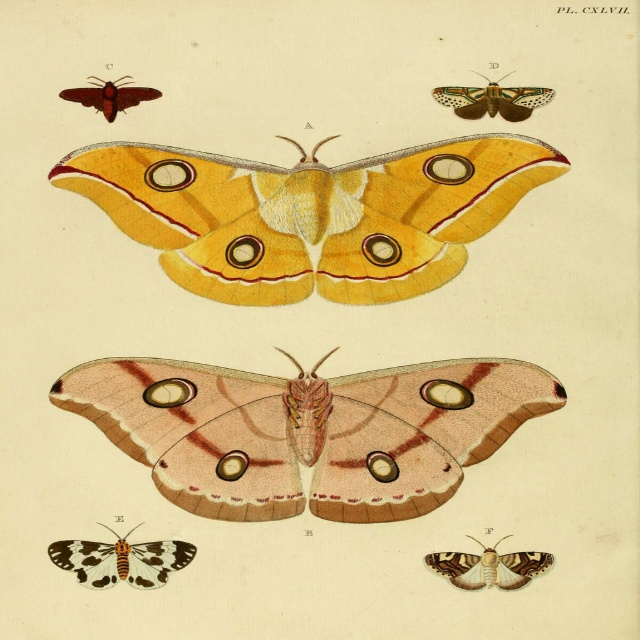Butterfly: (40, 343, 569, 529), (44, 132, 577, 305), (48, 524, 194, 593), (420, 538, 559, 592), (427, 68, 561, 120), (59, 74, 165, 124)
